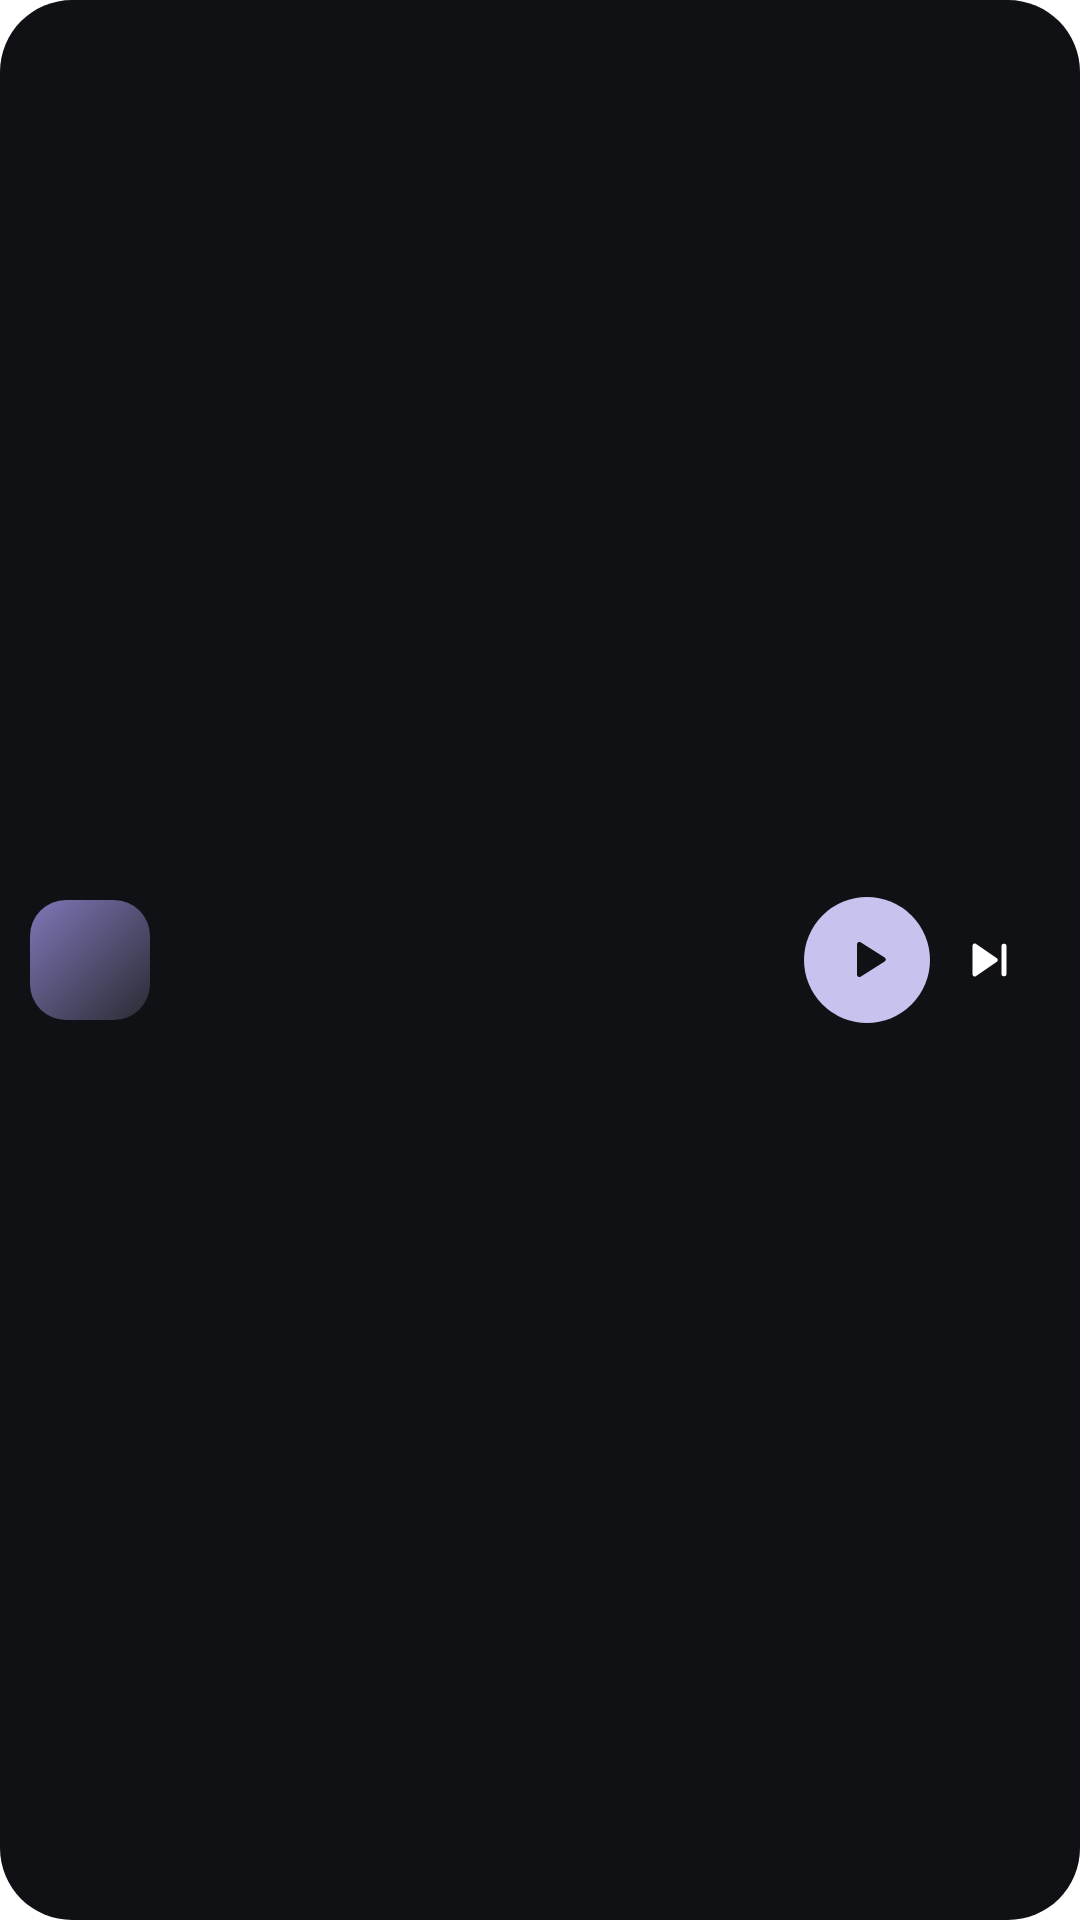

Locate icon controls on the screen. Image size 1080 × 1920, boxes as (x1, y1, x2, y2).
widget next: (972, 943, 1007, 977)
widget play: (857, 942, 886, 977)
